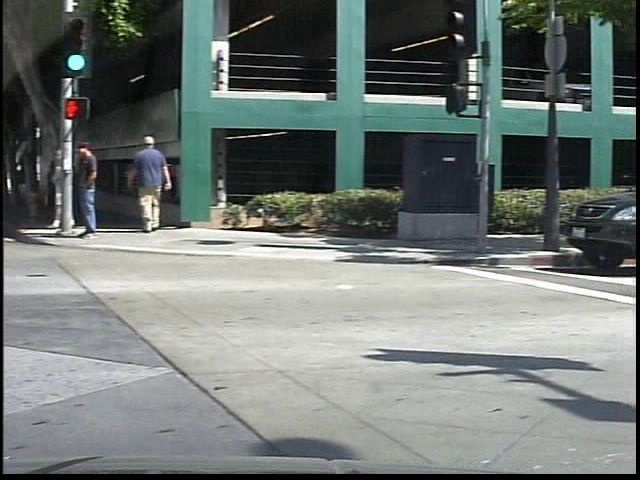person: (134, 135, 187, 235), (76, 135, 115, 245), (58, 143, 82, 232)
